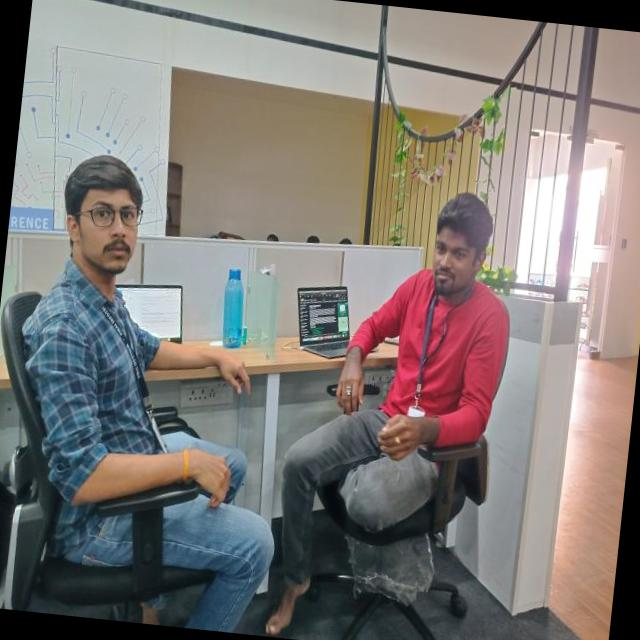id_card: (96, 295, 176, 452), (404, 272, 459, 424)
